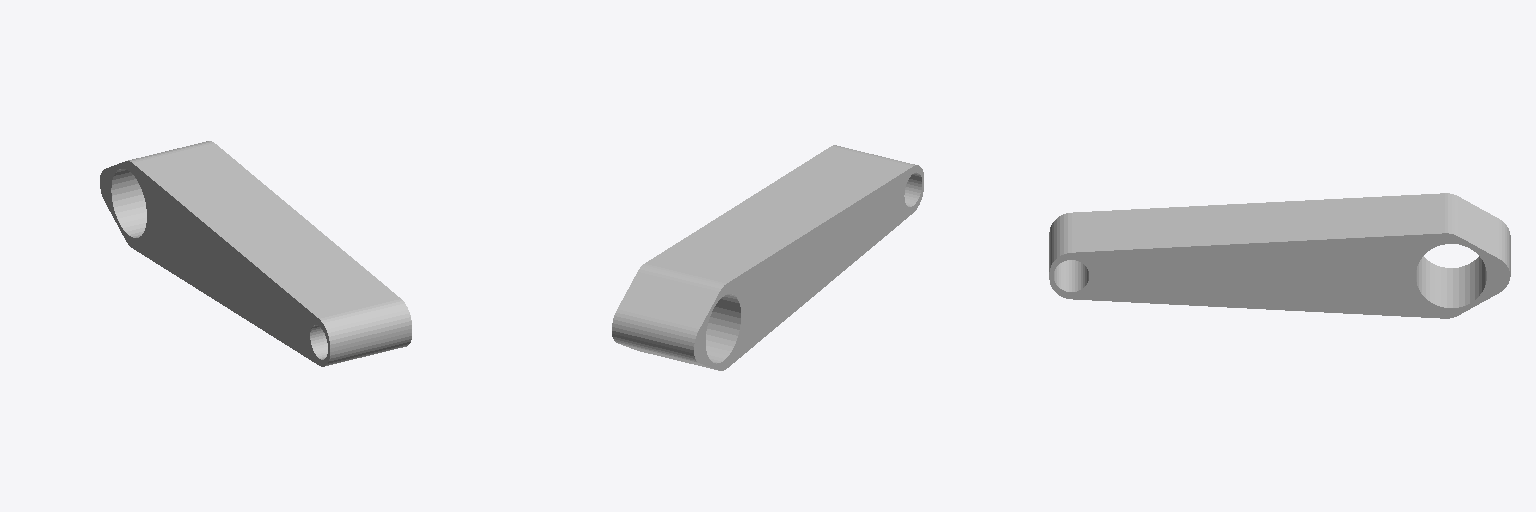
Rendered from viper_R_bt_sus.obj.
3 views of the same model, side by side, from view 1: azimuth 30°, elevation 25°; view 2: azimuth 150°, elevation 25°; view 3: azimuth 270°, elevation 25° (orthographic).
Visible parts, largest first — view 1: viper_R_bt_sus; view 2: viper_R_bt_sus; view 3: viper_R_bt_sus.
Part boxes in pixels (left/top/right/bottom): viper_R_bt_sus: left=100, top=141, right=411, bottom=366; viper_R_bt_sus: left=612, top=145, right=923, bottom=370; viper_R_bt_sus: left=1049, top=193, right=1510, bottom=318.
Bounding box in the file's own units: 0.08 × 0.0794 × 0.3887.